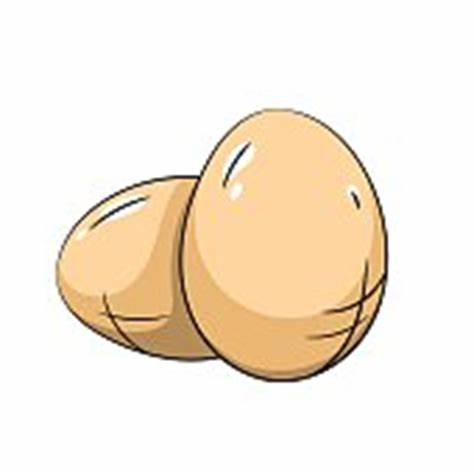egg: (187, 101, 393, 402), (26, 165, 246, 388)
